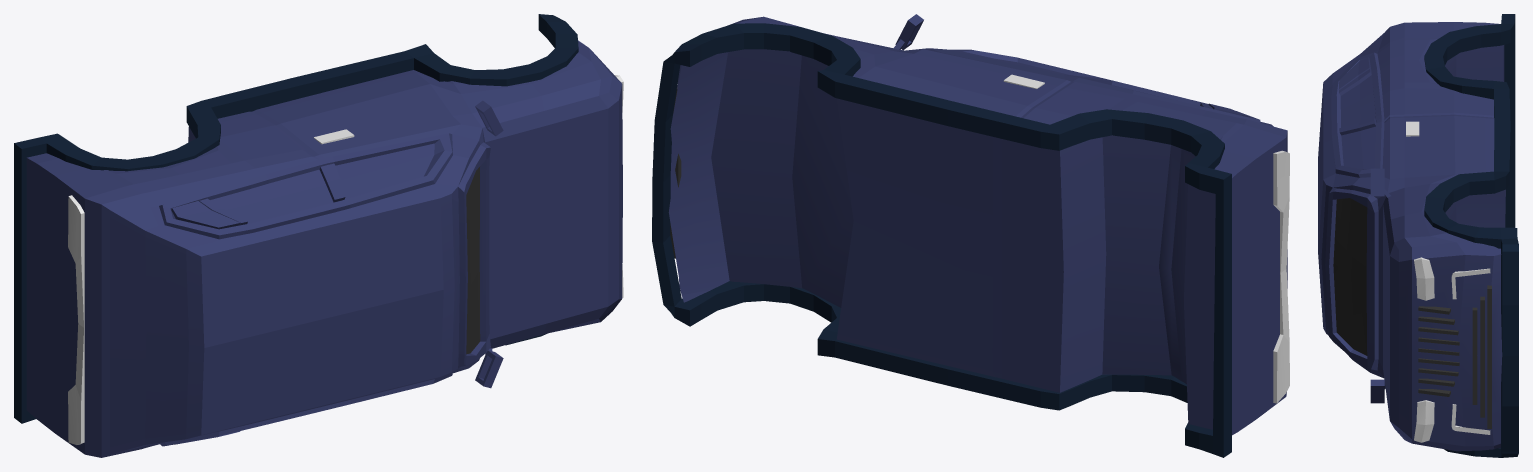
The model's file is toggmodel.glb.
3 renders of one model, left to right at view 1: azimuth 30°, elevation 25°; view 2: azimuth 150°, elevation 25°; view 3: azimuth 270°, elevation 25°, orthographic. The views are drawn at different scales.
Visible parts, largest first — view 1: hubitBlue, hubitDarkBlue, hubitWhite, hubitBlack; view 2: hubitBlue, hubitDarkBlue, hubitWhite; view 3: hubitBlue, hubitDarkBlue, hubitBlack, hubitWhite.
Boxes of the visible parts, bbox=[...] form: hubitBlue: bbox=[26, 40, 622, 457]; hubitDarkBlue: bbox=[14, 14, 578, 423]; hubitWhite: bbox=[68, 75, 623, 444]; hubitBlack: bbox=[466, 167, 480, 354]; hubitBlue: bbox=[668, 14, 1287, 435]; hubitDarkBlue: bbox=[652, 23, 1231, 457]; hubitWhite: bbox=[1003, 74, 1289, 403]; hubitBlue: bbox=[1318, 22, 1505, 451]; hubitDarkBlue: bbox=[1424, 14, 1518, 457]; hubitBlack: bbox=[1333, 198, 1491, 428]; hubitWhite: bbox=[1406, 121, 1490, 442].
Size of the model in its own units: 2.08 by 0.995 by 0.7711.
